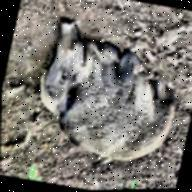boar: (23, 14, 192, 178)
